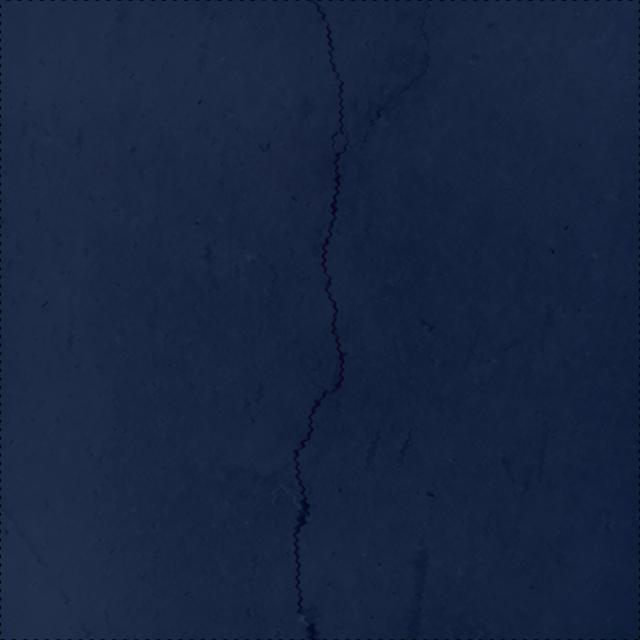crack: (292, 0, 431, 640)
